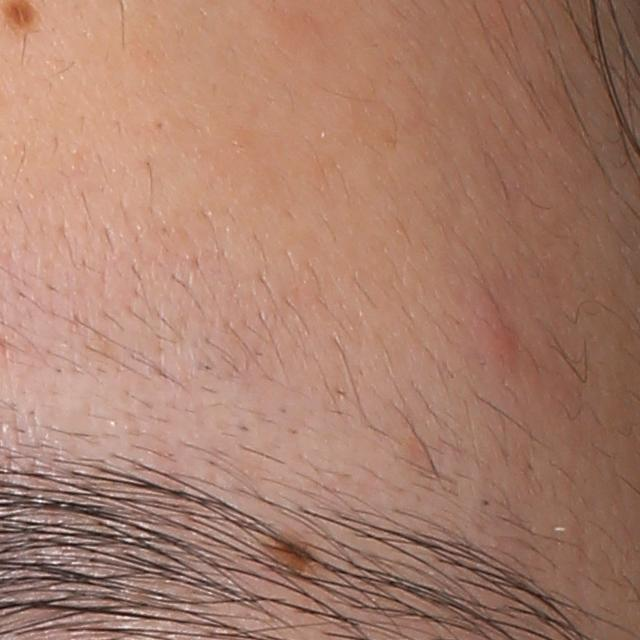nevus: (278, 533, 309, 570)
papule: (484, 292, 520, 366)
